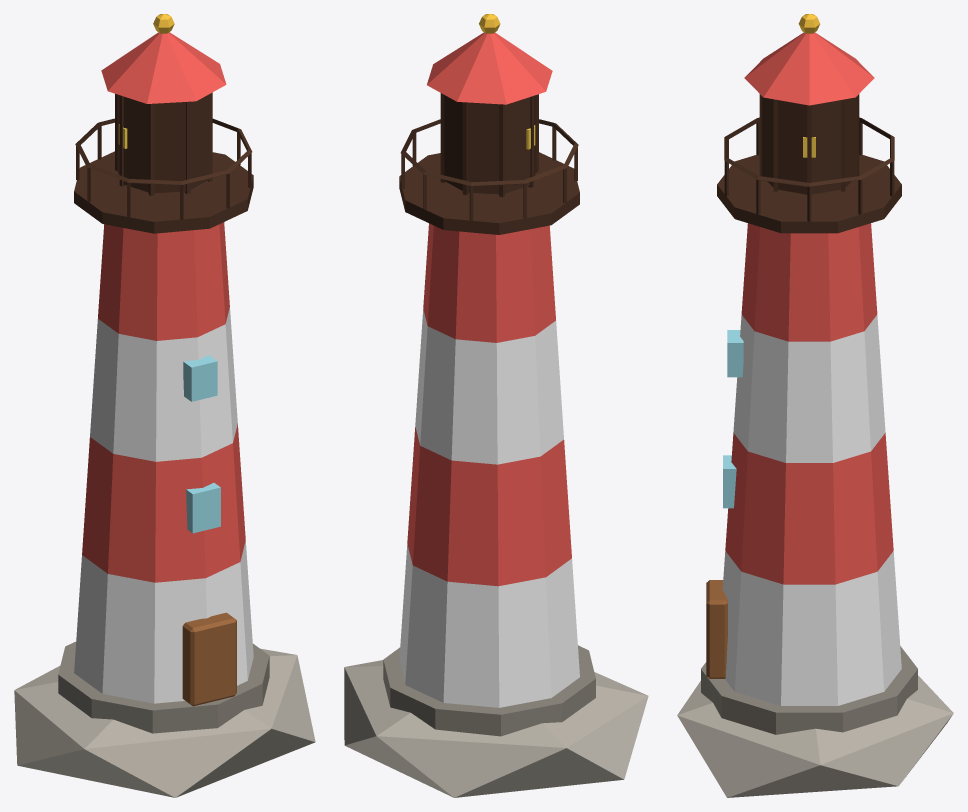
The model's file is lighthouse.glb.
3 renders of one model, left to right at view 1: azimuth 30°, elevation 25°; view 2: azimuth 150°, elevation 25°; view 3: azimuth 270°, elevation 25°, orthographic.
Visible parts, largest first — view 1: lighthouse; view 2: lighthouse; view 3: lighthouse.
Boxes of the visible parts, box(x1,y1,x2,y2) form: lighthouse: box(14, 14, 315, 797); lighthouse: box(344, 14, 648, 797); lighthouse: box(677, 14, 953, 797).
Bounding box in the file's own units: 2.98 × 7.66 × 2.55.
